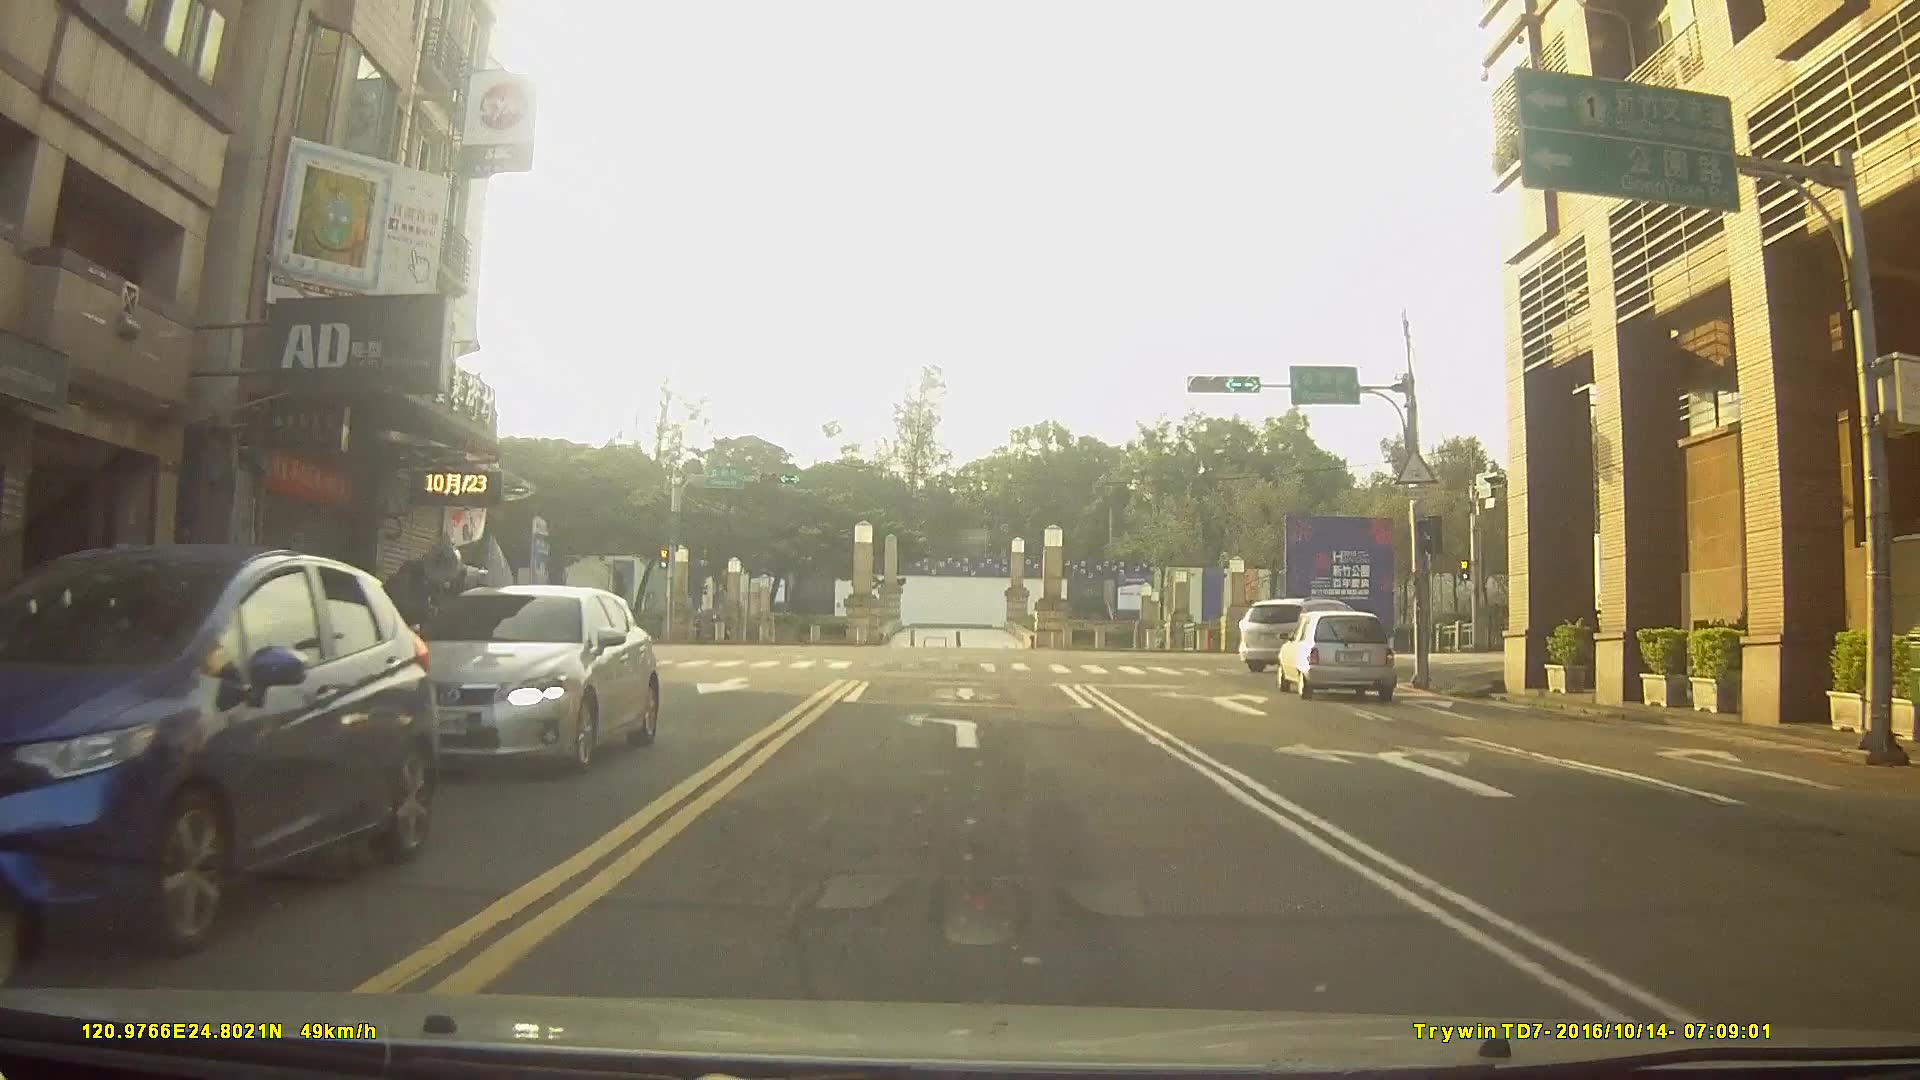vehicle: (0, 539, 435, 948), (396, 582, 657, 771), (1237, 593, 1379, 673), (1278, 607, 1398, 696)
